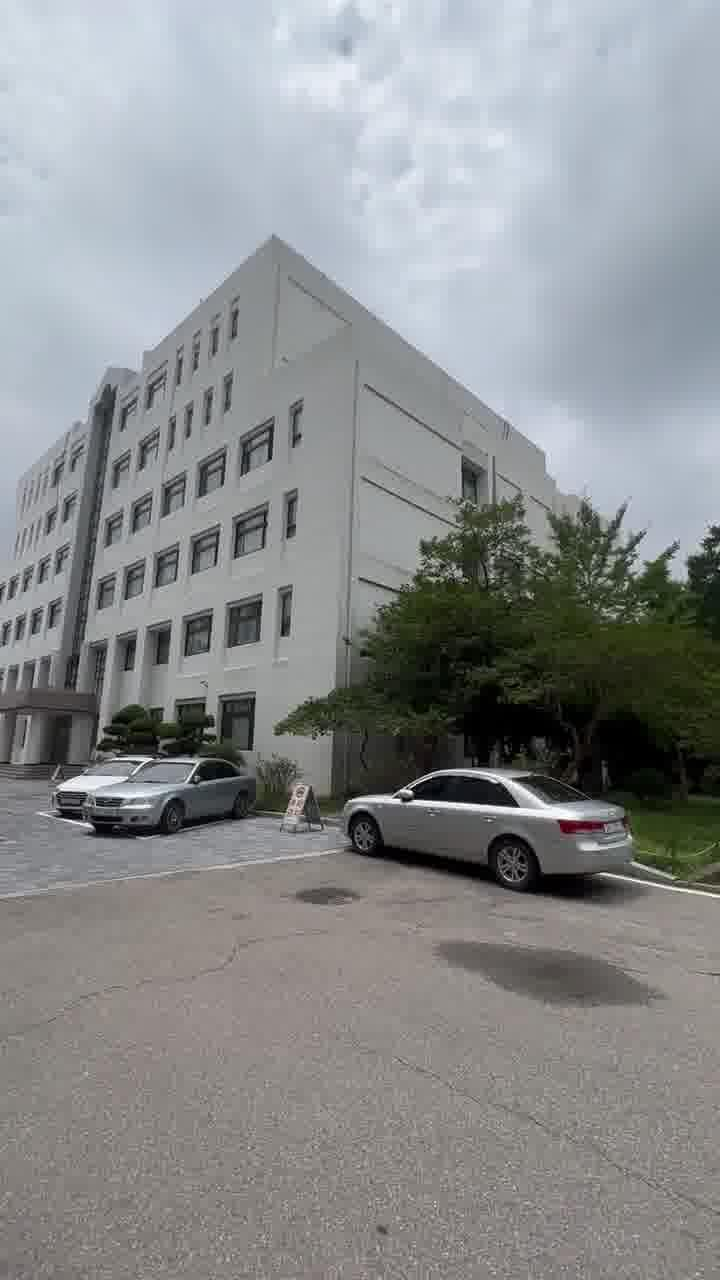building: (48, 242, 348, 738)
